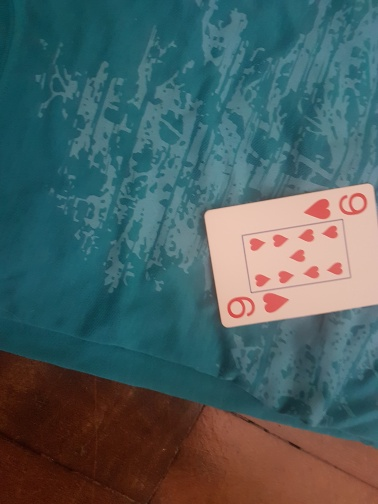nine: (205, 183, 378, 329)
